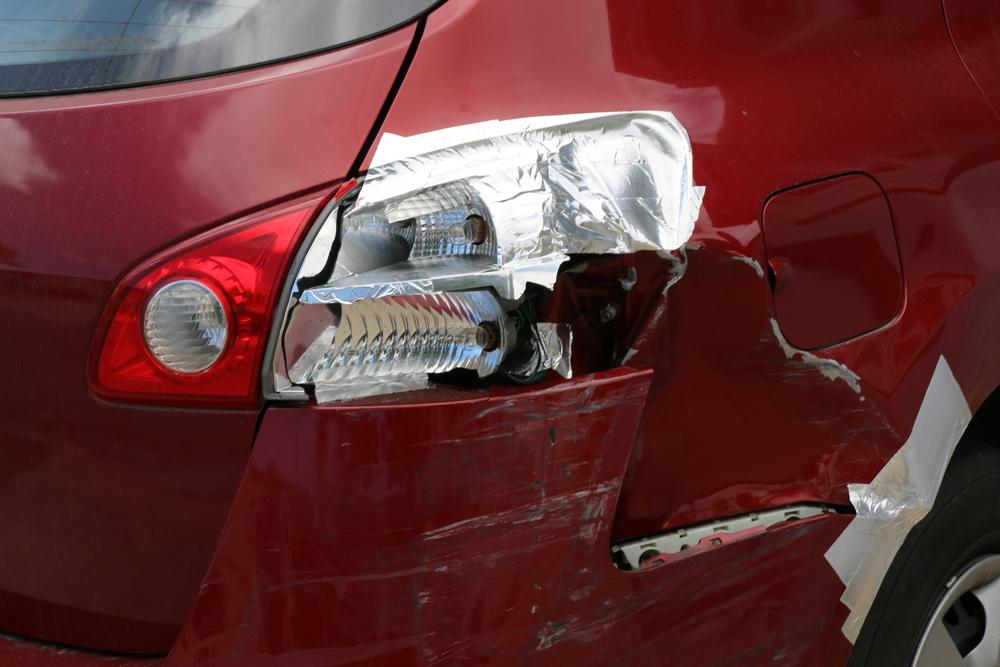dent: (620, 245, 914, 543)
lamp broken: (265, 119, 684, 401)
scratch: (405, 376, 804, 667)
